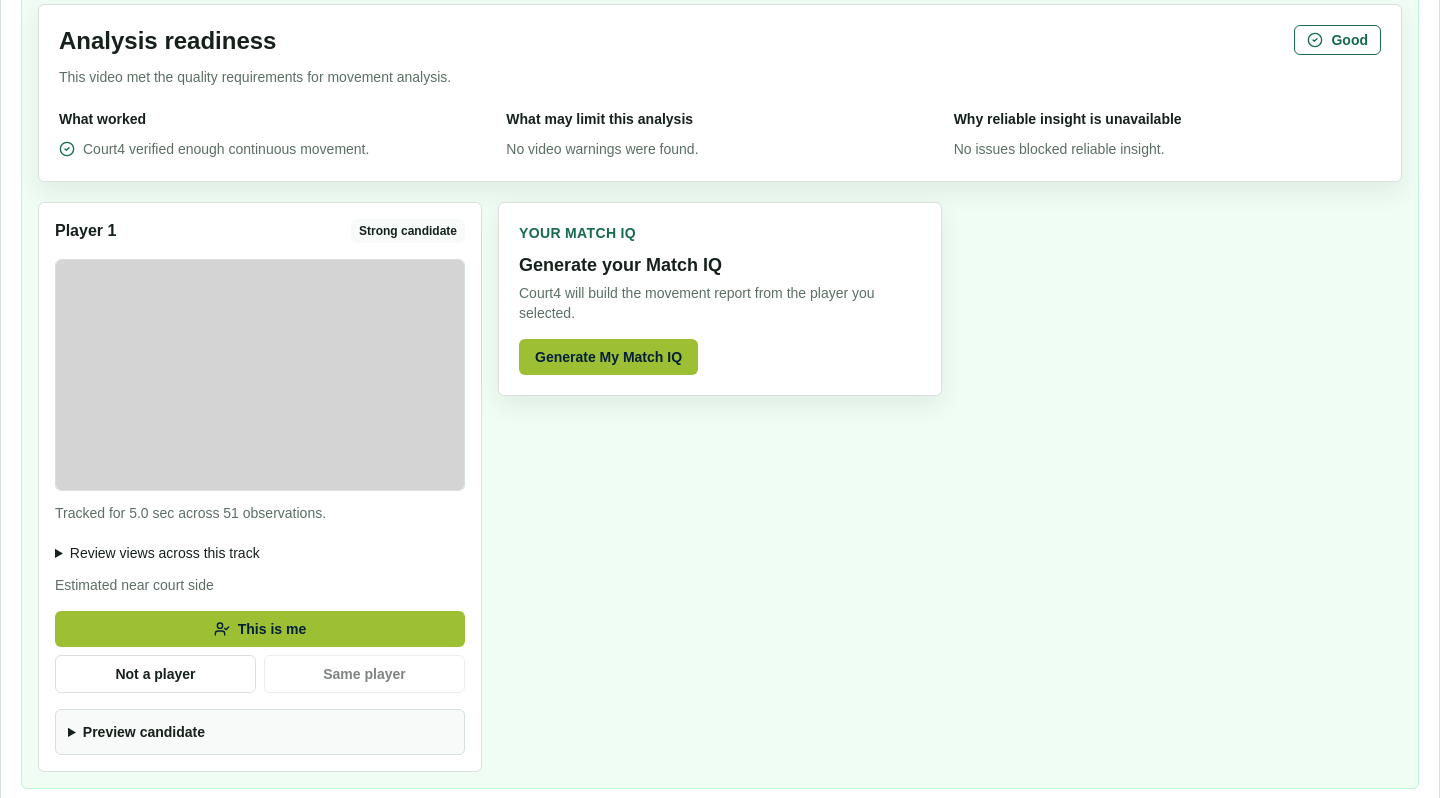
Test: match details workflow › does not let an older in-flight candidate refresh replace a saved selection
This screenshot has width=1440, height=798.
(page scrolled)
Expected: the heading "Player 1" is shown, [55,219,116,243]
Step 1. Click the button "This is me" → (260, 628), box [55,610,465,646]
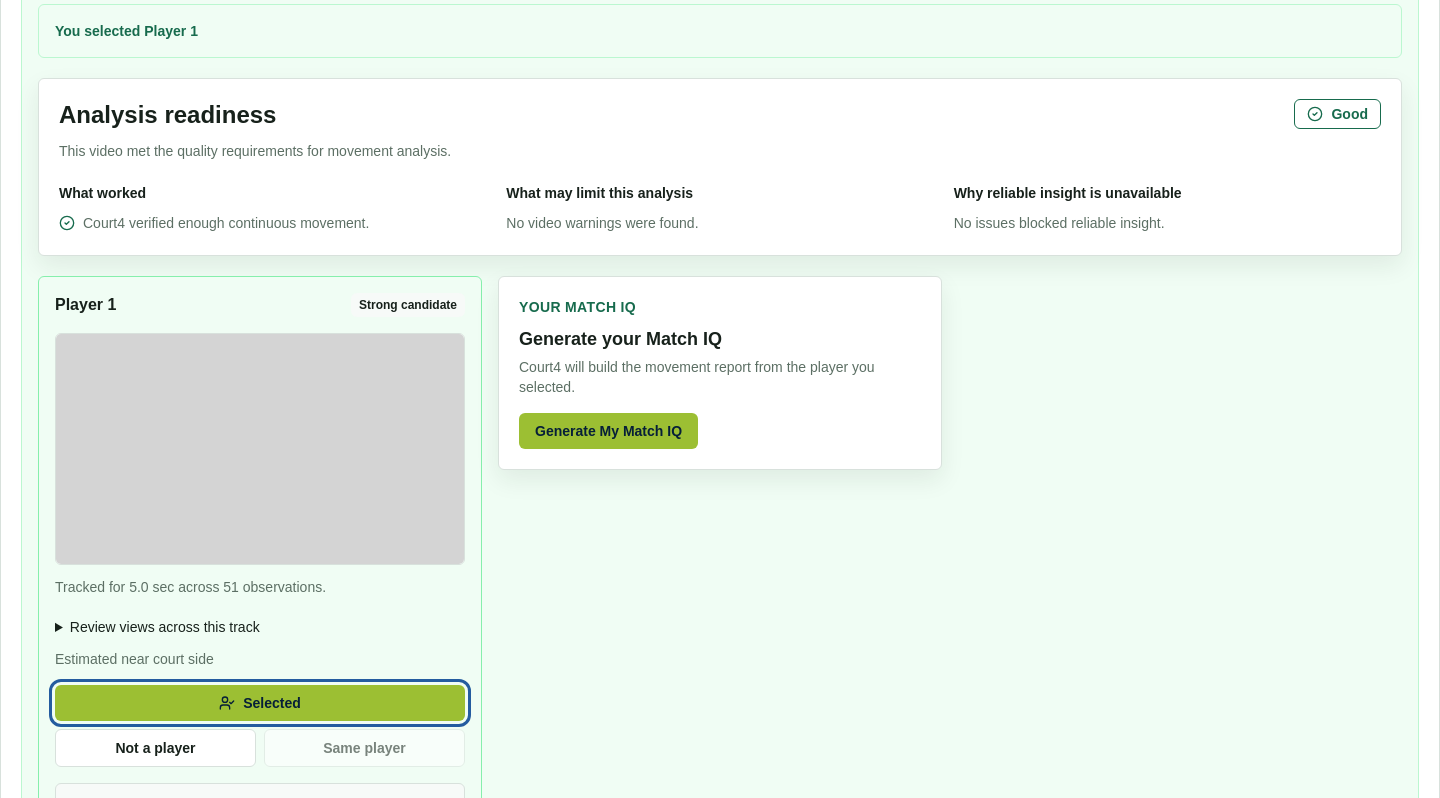
Now the text "You selected Player 1" is shown, box [38,4,1402,58]
